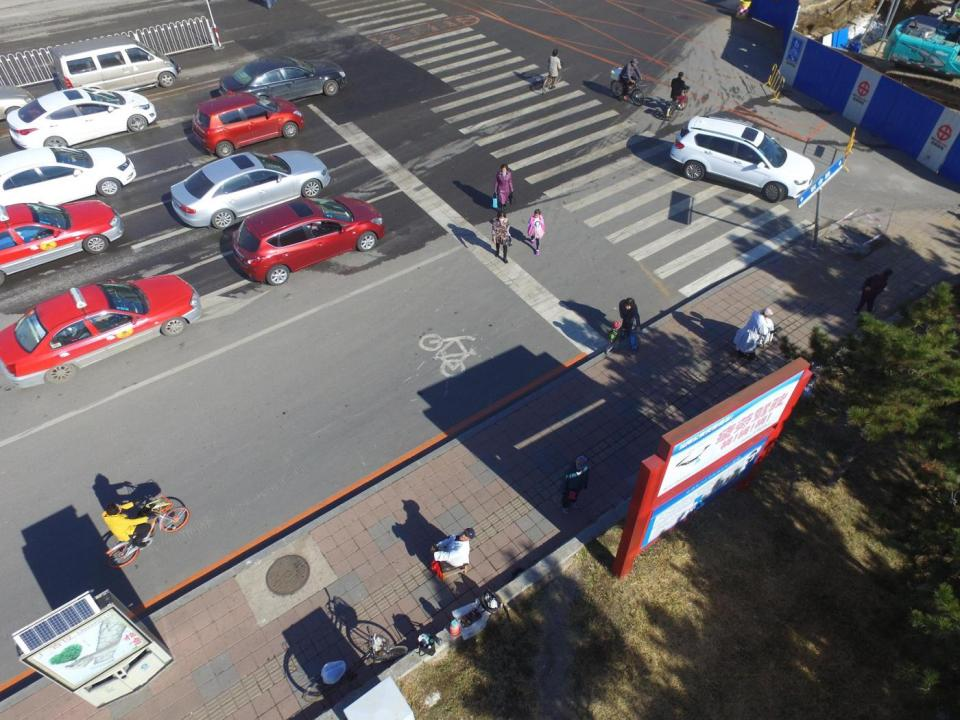car: (0, 272, 204, 388), (223, 191, 384, 286), (164, 149, 335, 230), (670, 112, 814, 202), (5, 87, 160, 153), (185, 86, 305, 158), (0, 146, 144, 204), (0, 200, 130, 261), (219, 52, 352, 103)
van: (49, 37, 181, 97)
